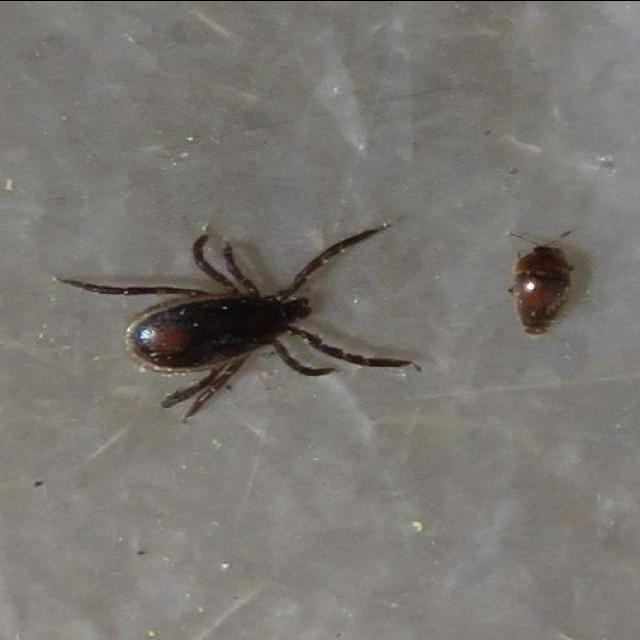Ixodes Ricinus-M: (75, 219, 422, 416)
